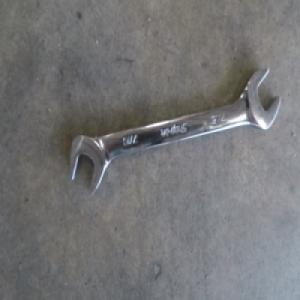Wrench: (72, 70, 276, 196)
